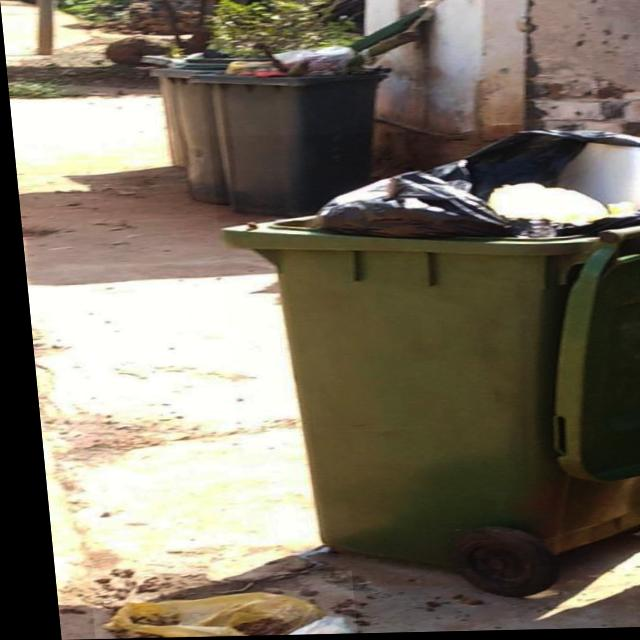garbage: (78, 567, 344, 639)
overflow: (207, 130, 640, 574), (191, 44, 397, 217)
